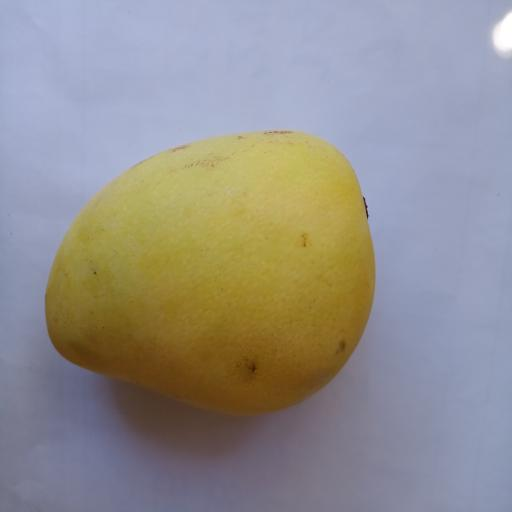mango-ripe: (35, 116, 407, 437)
